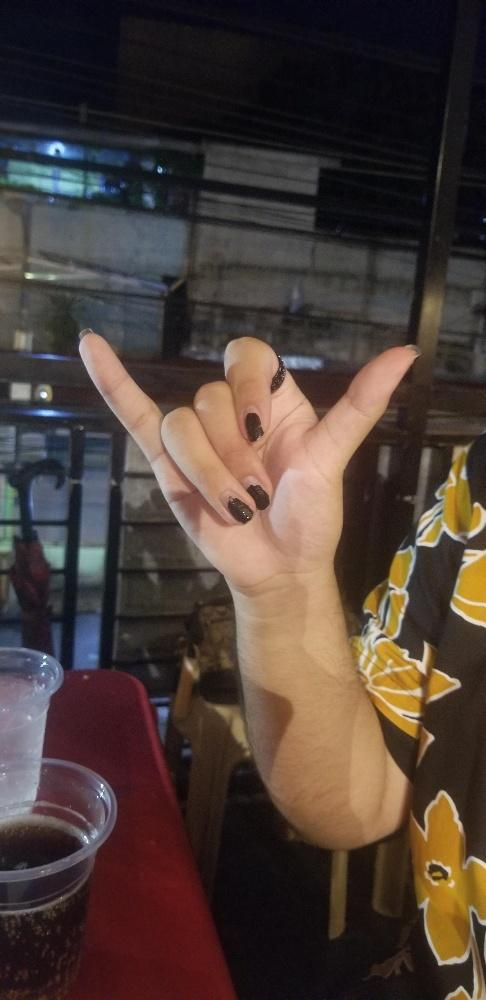y: (66, 319, 416, 567)
